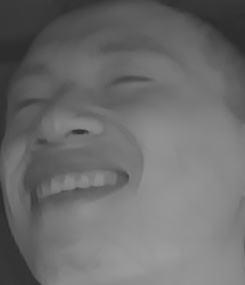eye: (105, 68, 154, 95), (7, 88, 51, 114)
mouth: (20, 160, 137, 212)
